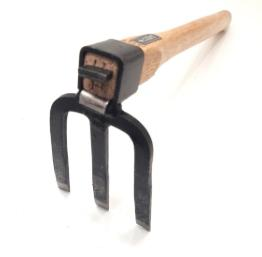HOUE: (22, 0, 262, 257)
